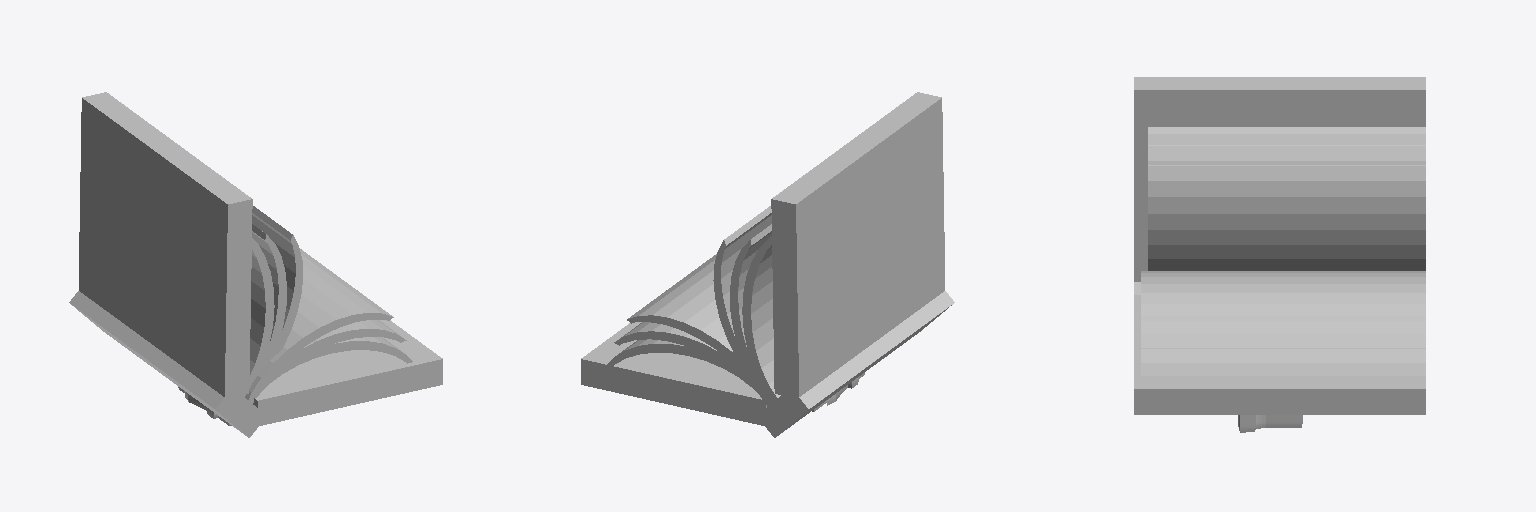
File: tinker 2.obj
3 views of the same model, side by side, from view 1: azimuth 30°, elevation 25°; view 2: azimuth 150°, elevation 25°; view 3: azimuth 270°, elevation 25° (orthographic).
Parts seen in each view (by area): view 1: obj_0; view 2: obj_0; view 3: obj_0.
Boxes of the visible parts, x1,y1,x2,y2 form: obj_0: [69, 92, 442, 437]; obj_0: [581, 92, 954, 437]; obj_0: [1134, 77, 1425, 432].
Bounding box in the file's own units: 18.46 × 20.05 × 20.5.